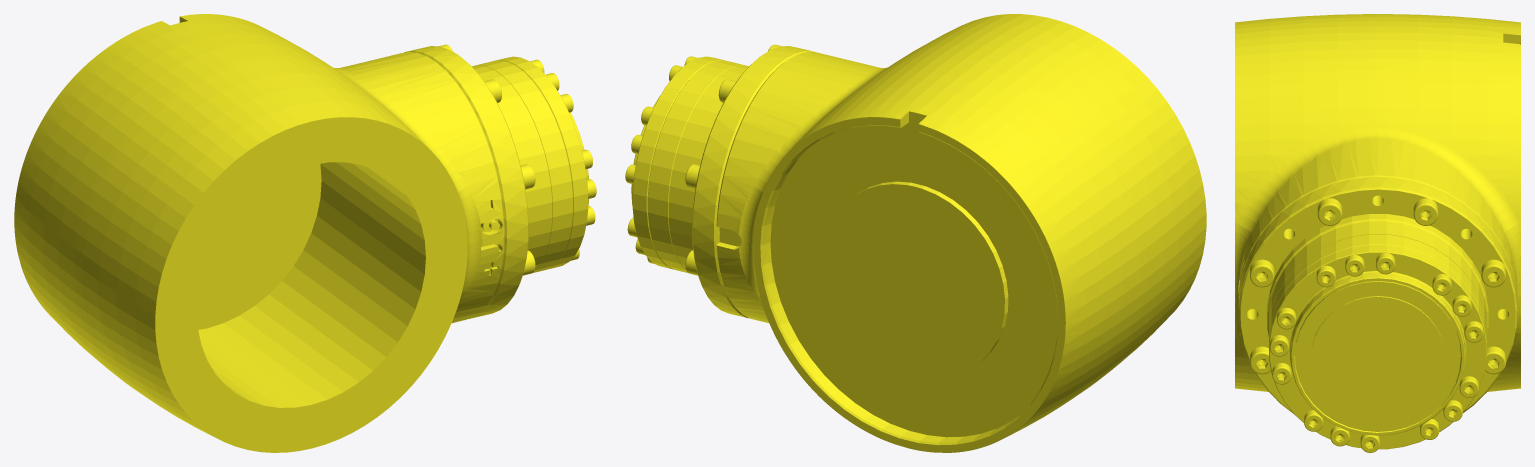
The picture shows the model from 3 angles, left to right: view 1: azimuth 30°, elevation 25°; view 2: azimuth 150°, elevation 25°; view 3: azimuth 270°, elevation 25°; orthographic projection.
Visible parts, largest first — view 1: Link5; view 2: Link5; view 3: Link5.
Part boxes in pixels (box(x1,y1,x2,y2)): Link5: box(14, 14, 596, 452); Link5: box(625, 14, 1206, 452); Link5: box(1235, 14, 1520, 452).
Bounding box in the file's own units: 0.1562 × 0.081 × 0.1085.
